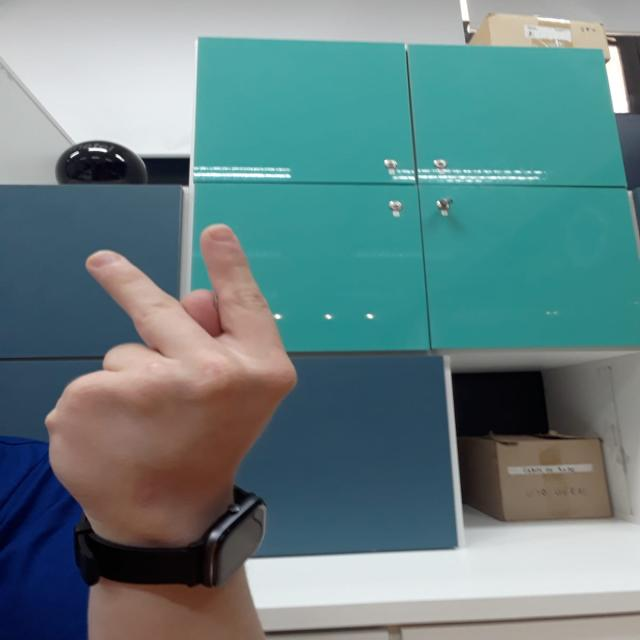K: (40, 218, 304, 518)
